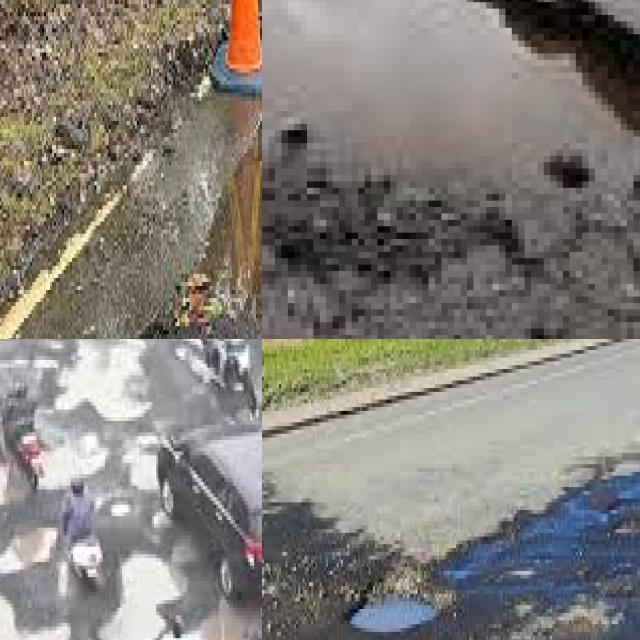Pothole: (262, 0, 640, 213), (109, 94, 262, 339), (54, 339, 148, 421), (349, 563, 437, 636), (101, 554, 173, 640), (39, 444, 105, 490), (0, 531, 52, 573), (199, 604, 246, 640), (512, 518, 552, 556), (0, 463, 20, 509)
